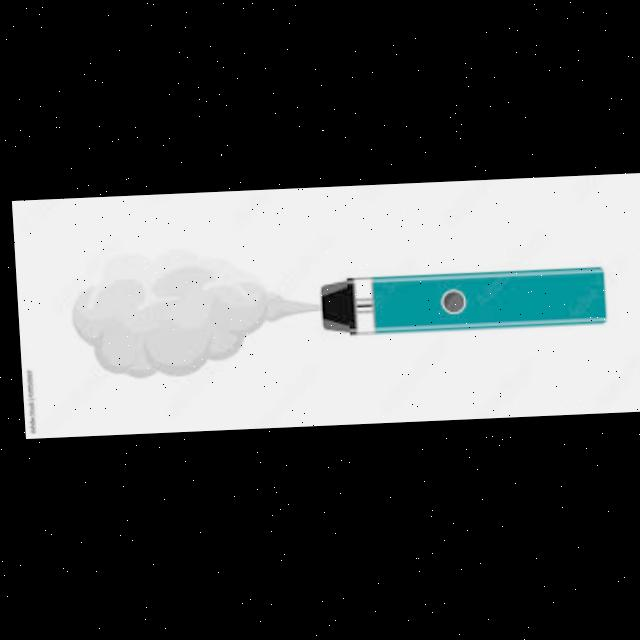vape: (315, 273, 603, 340)
